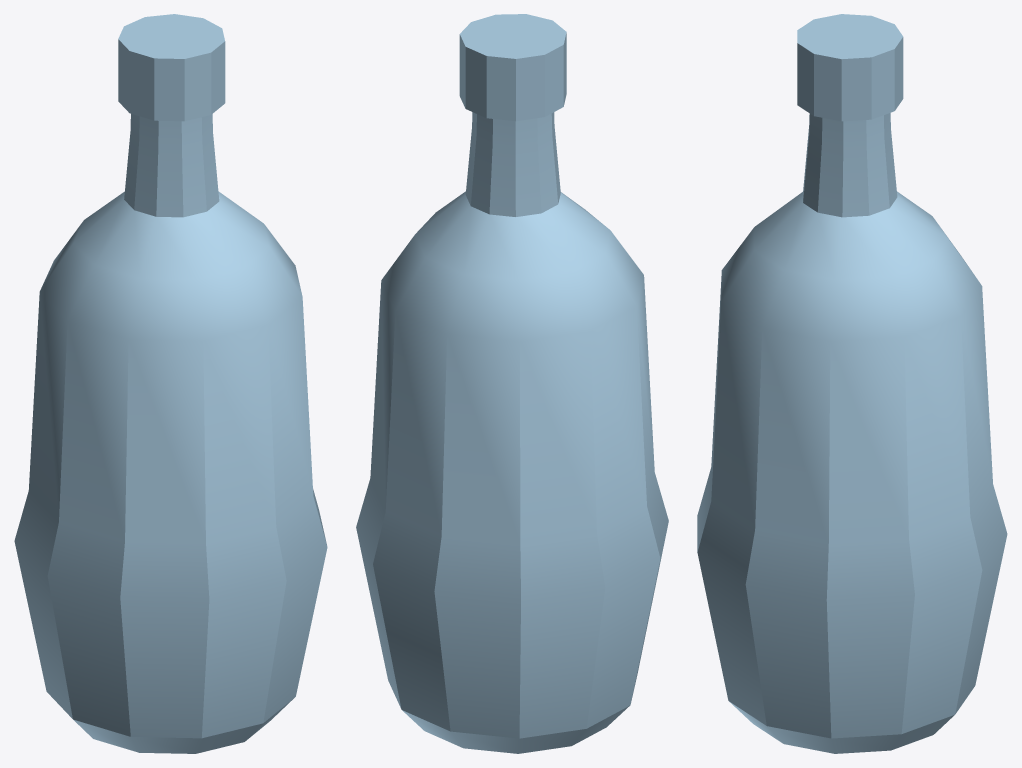
Rendered from Shadow_Bottle_3.fbx.
The picture shows the model from 3 angles, left to right: view 1: azimuth 30°, elevation 25°; view 2: azimuth 150°, elevation 25°; view 3: azimuth 270°, elevation 25°; orthographic projection.
Visible parts, largest first — view 1: Sphere.032; view 2: Sphere.032; view 3: Sphere.032.
Part boxes in pixels (left/top/right/bottom): Sphere.032: left=14, top=14, right=327, bottom=753; Sphere.032: left=356, top=14, right=668, bottom=753; Sphere.032: left=697, top=14, right=1007, bottom=753.
Bounding box in the file's own units: 31.75 × 76.11 × 31.42.
